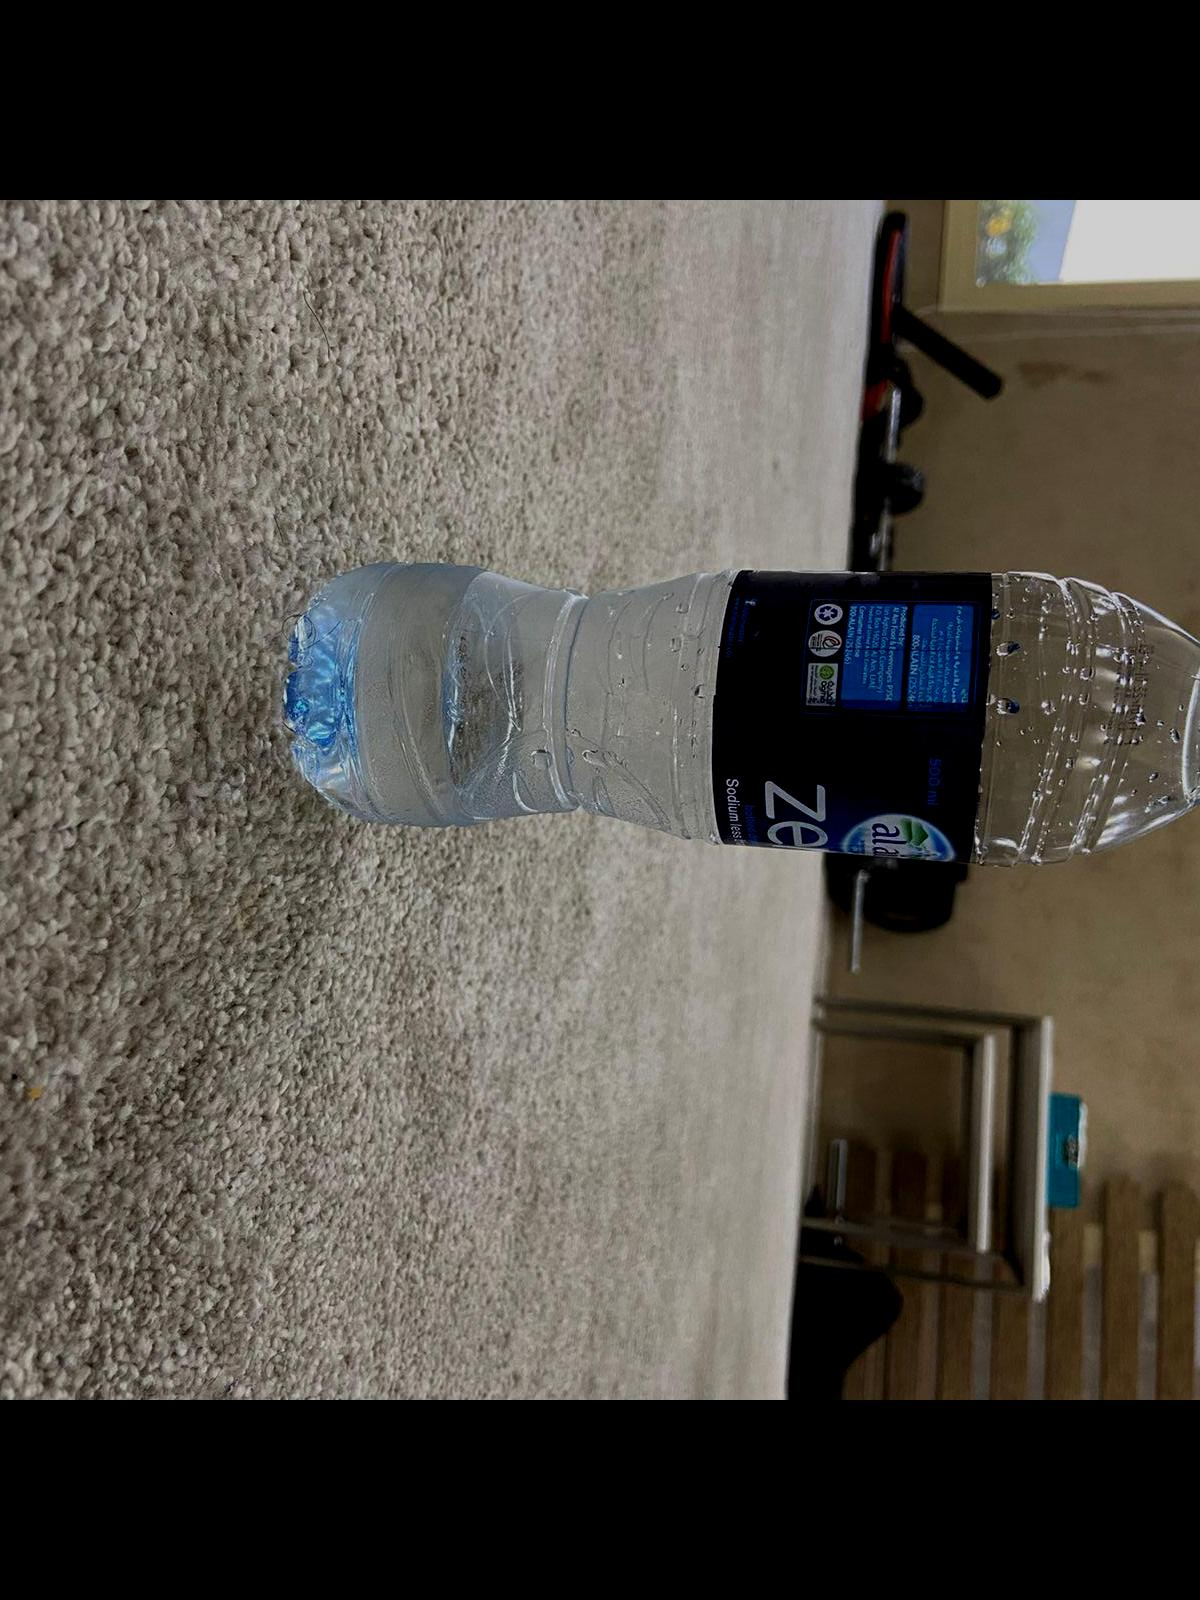bottle: (279, 563, 1200, 872)
